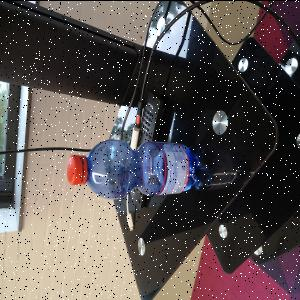Plastic-bottle: (67, 138, 203, 202)
